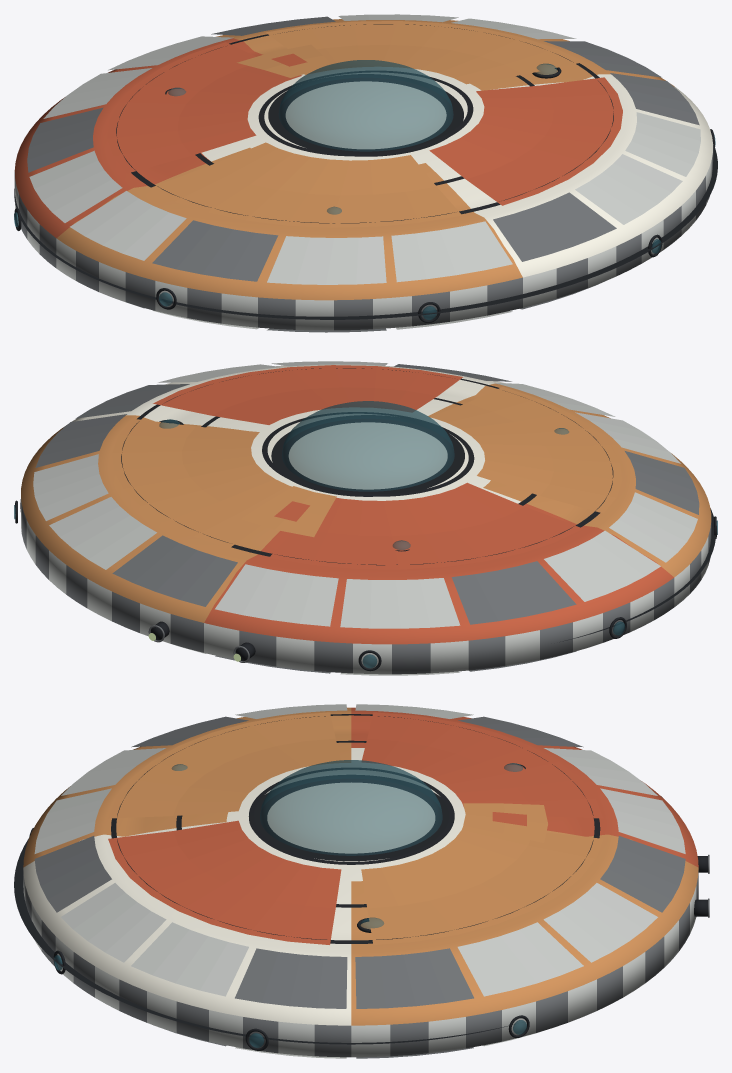
Rendered from Ship_FlyingSaucer_752605.glb.
3 views of the same model, one above another, from view 1: azimuth 30°, elevation 25°; view 2: azimuth 150°, elevation 25°; view 3: azimuth 270°, elevation 25° (orthographic). The views are drawn at different scales.
Visible parts, largest first — view 1: Hull_LenticularThickDiscBody, PaintQuadrant_Top_03_LargePanel, PaintQuadrant_Top_04_LargePanel, PaintQuadrant_Top_02_LargePanel, CommandDomeGlass_CenteredFlattenedDome, PaintQuadrant_Top_01_LargePanel, RimArmorSegment_11_UpperHullPlate, RimArmorSegment_12_UpperHullPlate, RimArmorSegment_10_UpperHullPlate, RimArmorSegment_13_UpperHullPlate, RimArmorSegment_09_UpperHullPlate, CommandDomeFrame_UpperCircularRim (+15 smaller); view 2: Hull_LenticularThickDiscBody, PaintQuadrant_Top_02_LargePanel, PaintQuadrant_Top_01_LargePanel, PaintQuadrant_Top_03_LargePanel, CommandDomeGlass_CenteredFlattenedDome, PaintQuadrant_Top_04_LargePanel, RimArmorSegment_06_UpperHullPlate, RimArmorSegment_05_UpperHullPlate, RimArmorSegment_07_UpperHullPlate, RimArmorSegment_04_UpperHullPlate, RimArmorSegment_08_UpperHullPlate, RimArmorSegment_03_UpperHullPlate (+13 smaller); view 3: Hull_LenticularThickDiscBody, PaintQuadrant_Top_01_LargePanel, PaintQuadrant_Top_04_LargePanel, CommandDomeGlass_CenteredFlattenedDome, PaintQuadrant_Top_03_LargePanel, PaintQuadrant_Top_02_LargePanel, RimArmorSegment_01_UpperHullPlate, RimArmorSegment_16_UpperHullPlate, RimArmorSegment_02_UpperHullPlate, RimArmorSegment_15_UpperHullPlate, RimArmorSegment_03_UpperHullPlate, RimArmorSegment_14_UpperHullPlate (+15 smaller).
Boxes of the visible parts, x1,y1,x2,y2 form: Hull_LenticularThickDiscBody: (14,19,713,330); PaintQuadrant_Top_03_LargePanel: (148,142,461,227); PaintQuadrant_Top_04_LargePanel: (429,77,622,205); PaintQuadrant_Top_02_LargePanel: (107,42,301,173); CommandDomeGlass_CenteredFlattenedDome: (278,60,453,151); PaintQuadrant_Top_01_LargePanel: (266,21,583,84); RimArmorSegment_11_UpperHullPlate: (267,236,386,284); RimArmorSegment_12_UpperHullPlate: (391,221,512,282); RimArmorSegment_10_UpperHullPlate: (152,220,278,281); RimArmorSegment_13_UpperHullPlate: (493,192,616,261); RimArmorSegment_09_UpperHullPlate: (70,191,186,260); CommandDomeFrame_UpperCircularRim: (268,74,463,156); Hull_LenticularThickDiscBody: (21,364,711,674); PaintQuadrant_Top_02_LargePanel: (269,482,582,569); PaintQuadrant_Top_01_LargePanel: (112,418,291,548); PaintQuadrant_Top_03_LargePanel: (431,386,622,513); CommandDomeGlass_CenteredFlattenedDome: (282,401,454,491); PaintQuadrant_Top_04_LargePanel: (153,365,462,424); RimArmorSegment_06_UpperHullPlate: (340,578,460,628); RimArmorSegment_05_UpperHullPlate: (215,564,338,626); RimArmorSegment_07_UpperHullPlate: (451,561,576,624); RimArmorSegment_04_UpperHullPlate: (112,535,237,606); RimArmorSegment_08_UpperHullPlate: (544,530,660,601); RimArmorSegment_03_UpperHullPlate: (49,497,156,569); Hull_LenticularThickDiscBody: (23,707,698,1057); PaintQuadrant_Top_01_LargePanel: (361,825,603,944); PaintQuadrant_Top_04_LargePanel: (108,820,341,944); CommandDomeGlass_CenteredFlattenedDome: (260,760,442,855); PaintQuadrant_Top_03_LargePanel: (108,712,340,818); PaintQuadrant_Top_02_LargePanel: (362,712,603,818); RimArmorSegment_01_UpperHullPlate: (355,948,473,1008); RimArmorSegment_16_UpperHullPlate: (235,948,347,1008); RimArmorSegment_02_UpperHullPlate: (457,922,583,996); RimArmorSegment_15_UpperHullPlate: (131,922,248,996); RimArmorSegment_03_UpperHullPlate: (543,883,657,962); RimArmorSegment_14_UpperHullPlate: (61,883,166,962).
Size of the model in its own units: 4.56 by 1.24 by 4.25.
